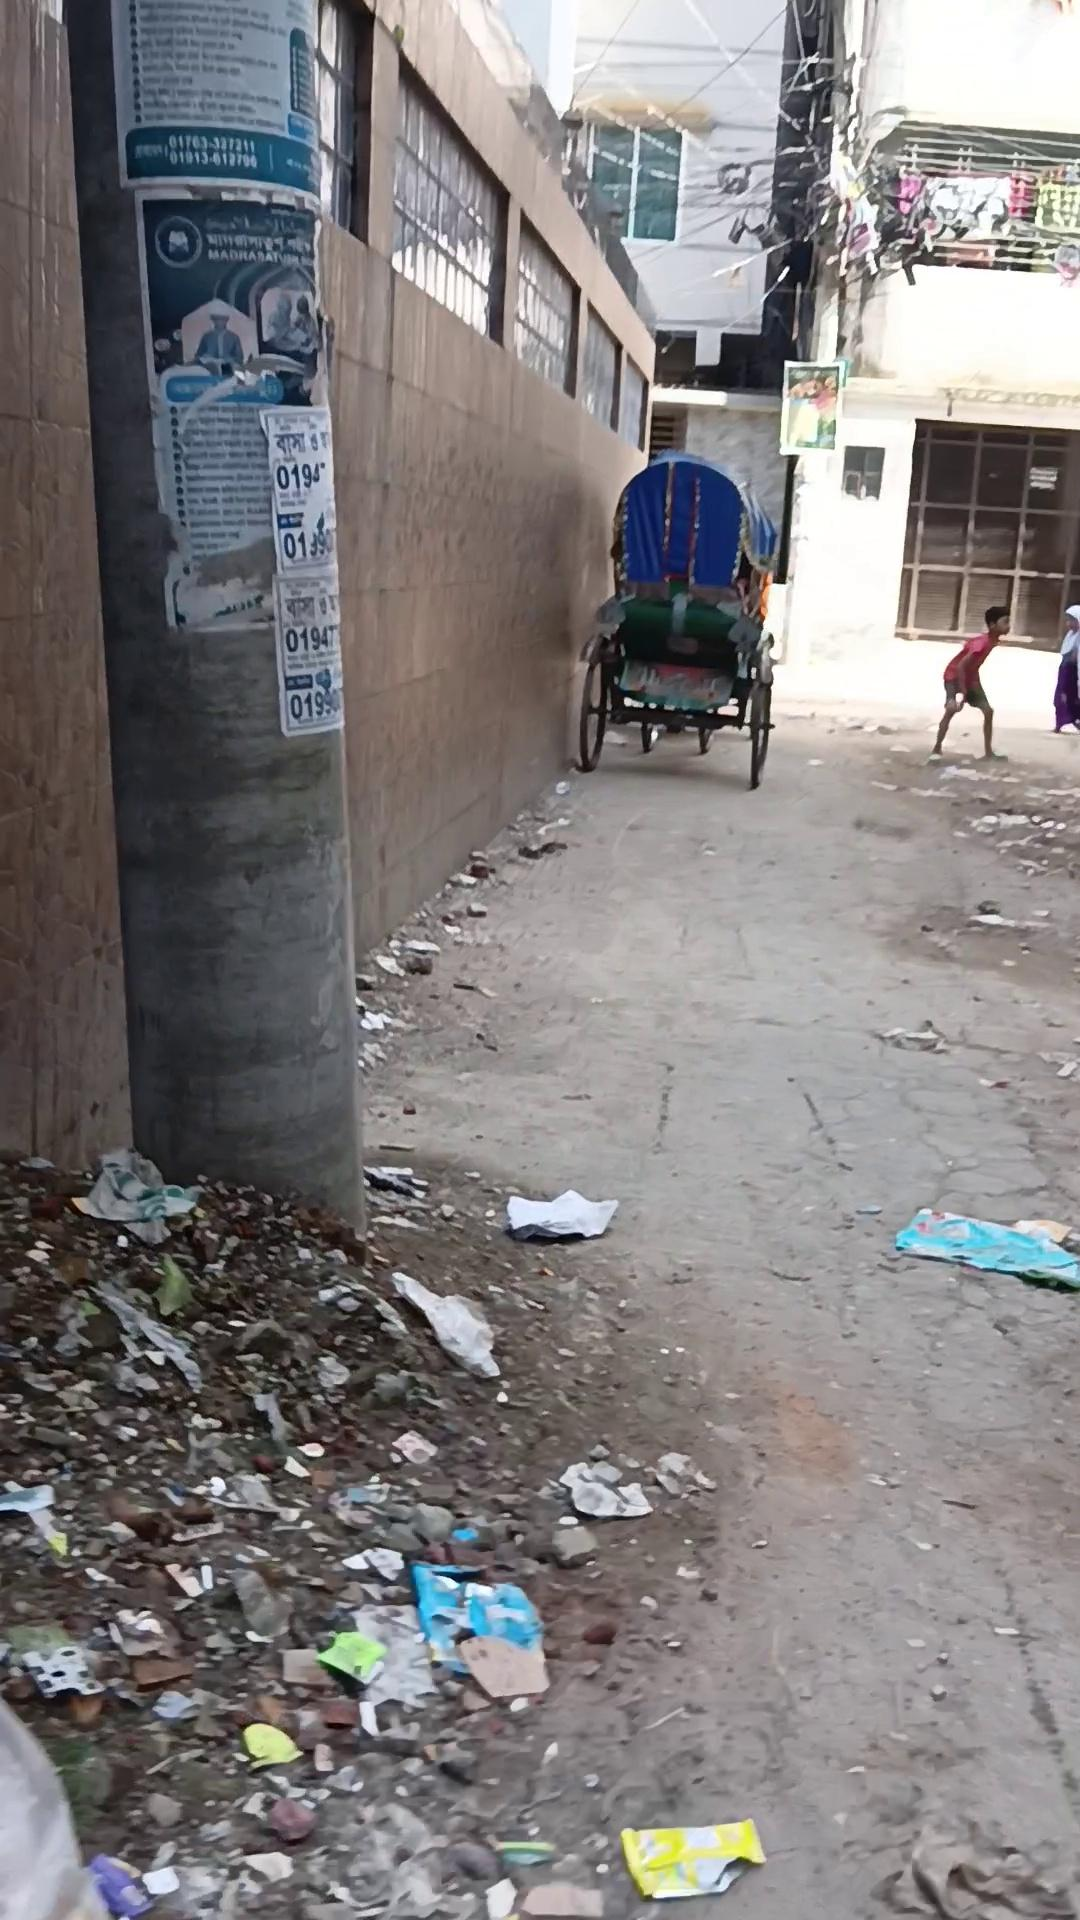Fence: (11, 1135, 563, 1920)
Muddy road: (928, 605, 1011, 760), (1051, 604, 1079, 733)
Obstacle: (63, 1, 371, 1242)
Pothole: (574, 448, 781, 791)
